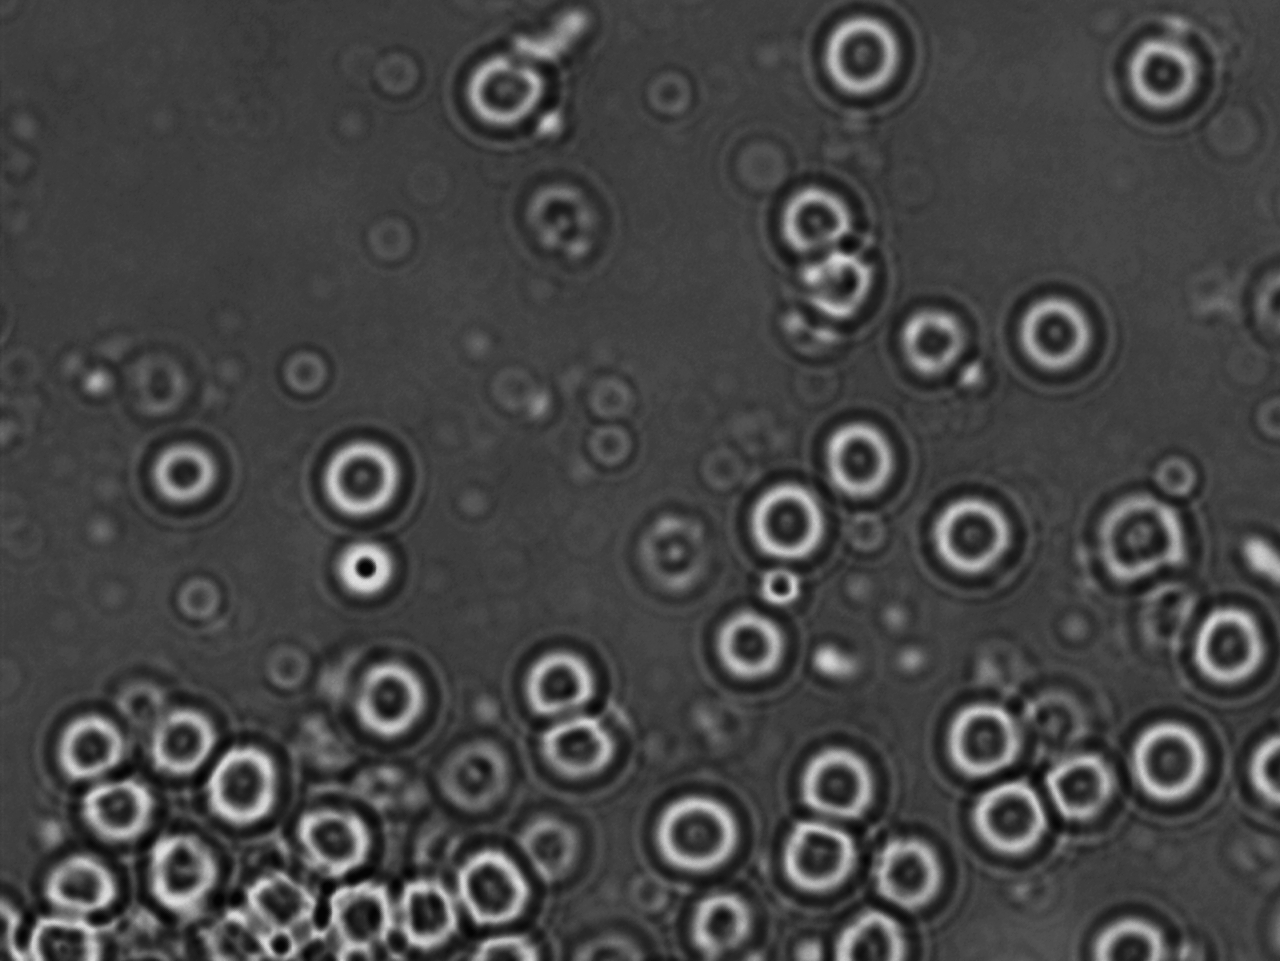depth:8: (296, 413, 433, 534), (1108, 19, 1232, 146), (799, 402, 925, 520), (131, 417, 254, 527), (1116, 703, 1228, 824), (1001, 277, 1118, 391), (1076, 483, 1191, 598), (638, 776, 750, 890), (914, 473, 1025, 588), (507, 625, 620, 736), (759, 167, 877, 273), (189, 726, 302, 835), (788, 234, 902, 341), (777, 720, 889, 828), (735, 463, 849, 569), (699, 588, 808, 697), (1037, 733, 1140, 843), (928, 687, 1037, 790), (1177, 588, 1276, 699), (135, 680, 238, 785), (446, 833, 551, 936), (961, 769, 1062, 876), (337, 645, 448, 741), (857, 828, 961, 930), (879, 287, 979, 393), (70, 755, 174, 854), (767, 807, 870, 905), (133, 821, 235, 920), (39, 698, 141, 795), (287, 790, 387, 889), (381, 859, 486, 953), (532, 707, 635, 798), (40, 846, 132, 933), (1076, 902, 1197, 961), (827, 891, 921, 961)
